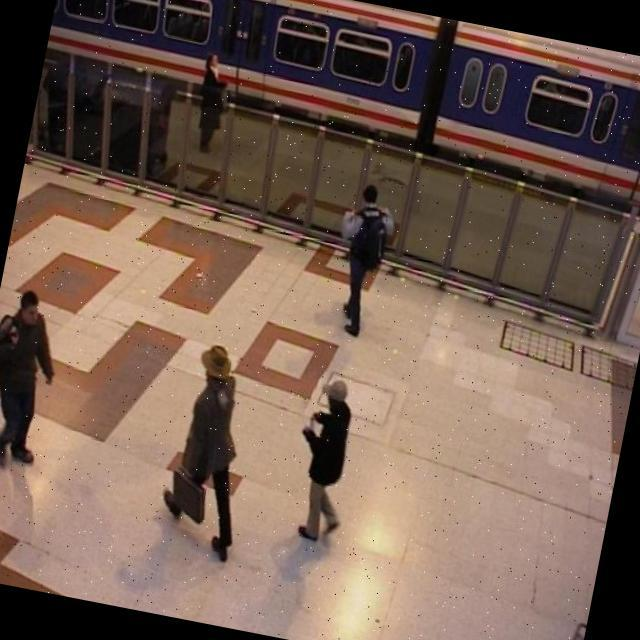person: (146, 334, 273, 566), (279, 371, 373, 554), (316, 172, 408, 344), (0, 280, 70, 474), (182, 46, 244, 160)
